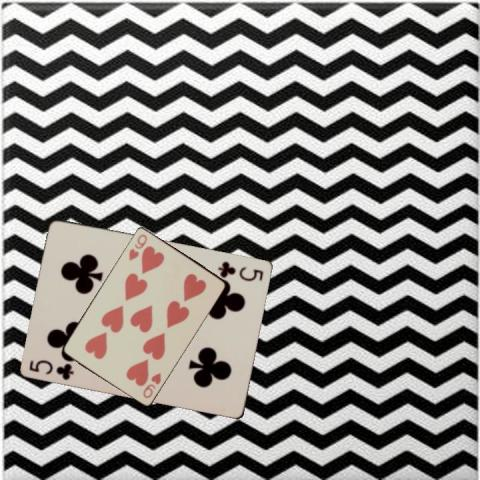5c: (216, 258, 266, 283), (27, 357, 75, 381)
9h: (125, 231, 149, 262), (139, 370, 163, 400)
